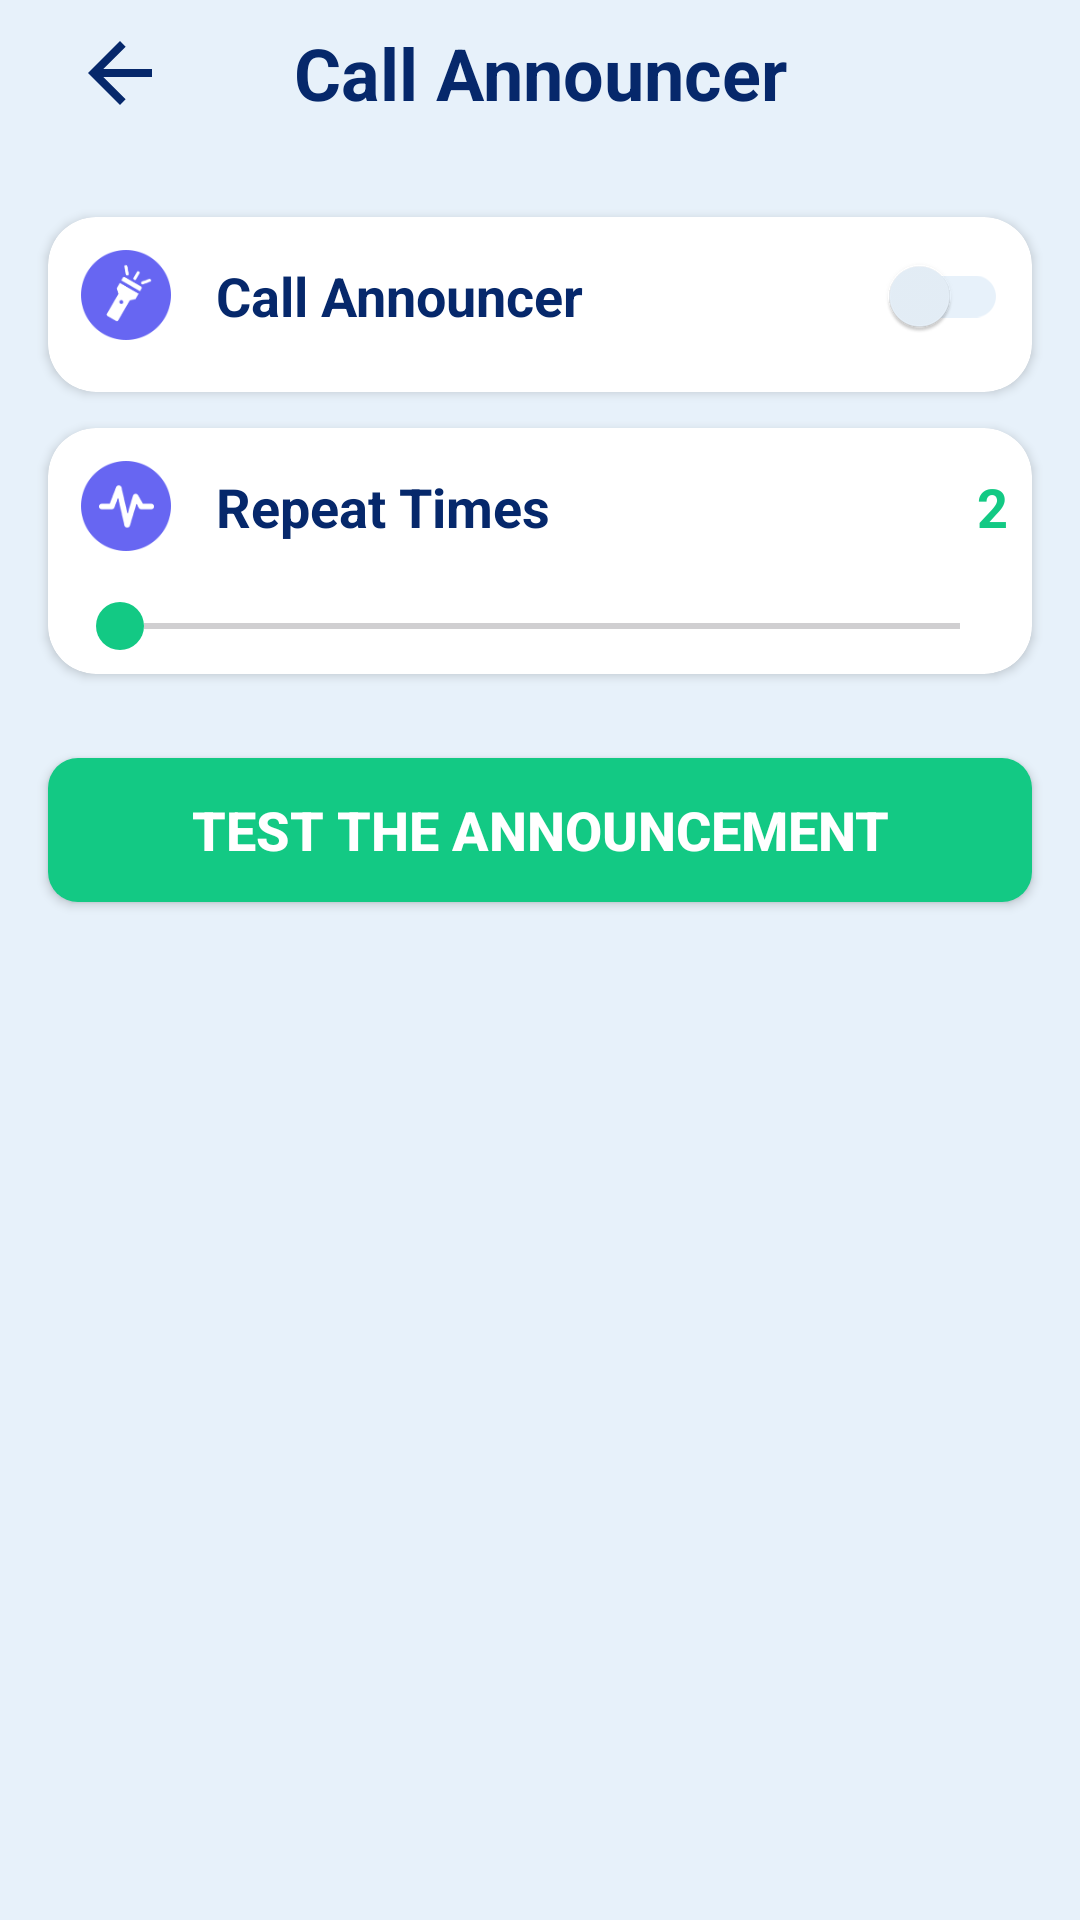

Icons on this 1080px×1920px Android screen, each with the point to tap as point (x, y):
arrow back: point (120, 73)
flashlight: point (126, 295)
